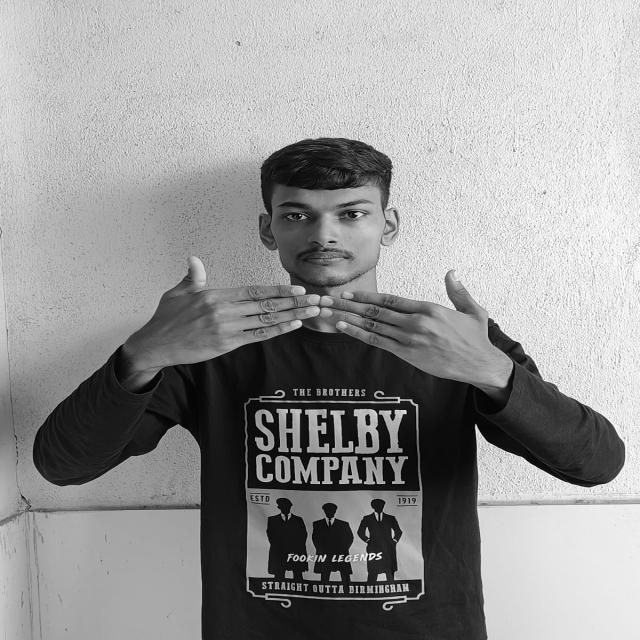Night: (144, 256, 502, 374)
